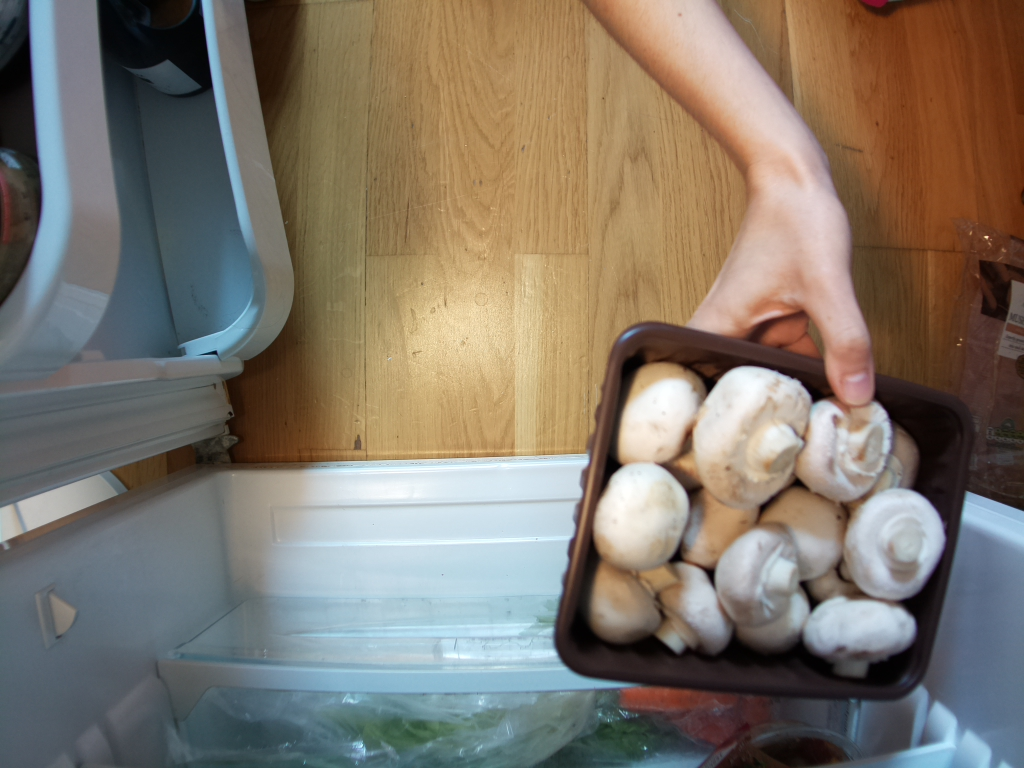mushrooms: (545, 302, 971, 718)
